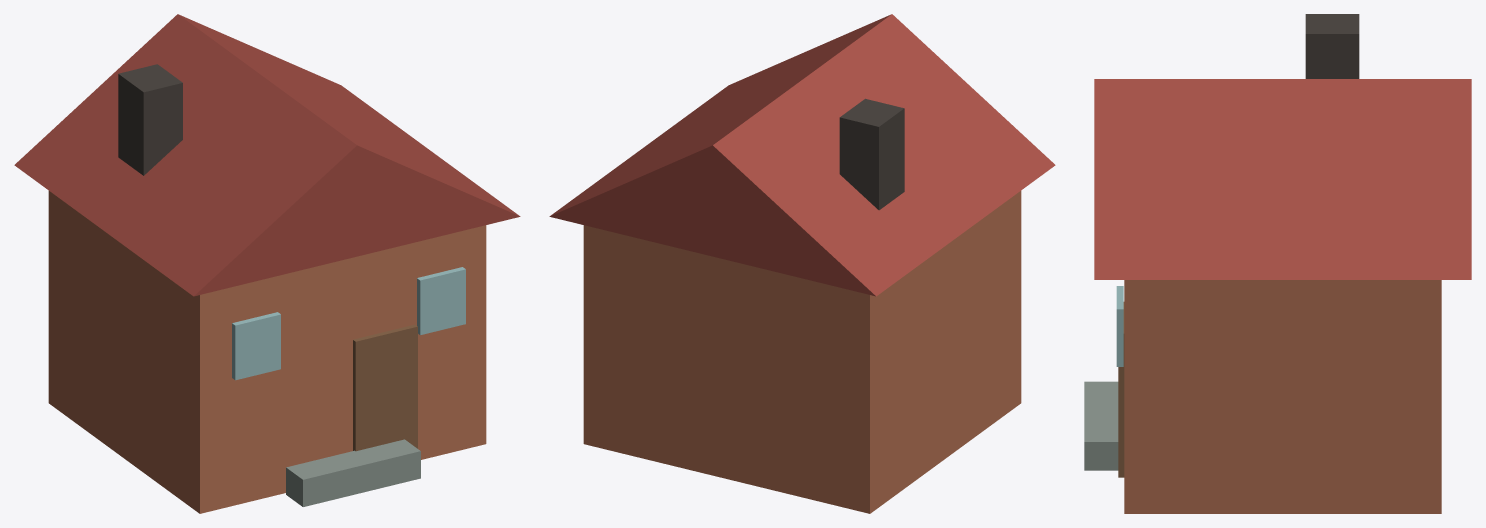
File: bld_house_b.glb
3 views of the same model, side by side, from view 1: azimuth 30°, elevation 25°; view 2: azimuth 150°, elevation 25°; view 3: azimuth 270°, elevation 25° (orthographic). The views are drawn at different scales.
Visible parts, largest first — view 1: bld_house_b; view 2: bld_house_b; view 3: bld_house_b.
Part boxes in pixels (box(x1,y1,x2,y2)): bld_house_b: box(14, 14, 520, 513); bld_house_b: box(549, 14, 1055, 513); bld_house_b: box(1084, 14, 1471, 513).
Bounding box in the file's own units: 2 × 2.05 × 1.95.
1 material, 1 textured.
